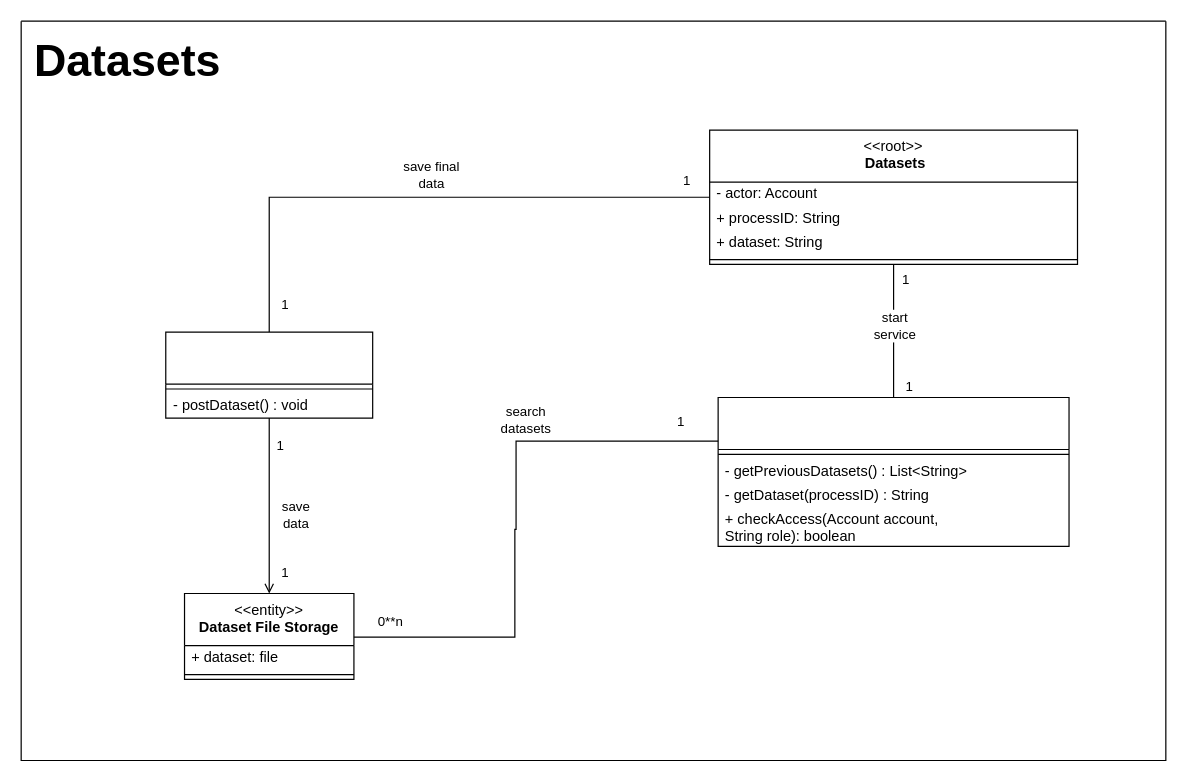
This 1187x782 diagram has some shape labels left out. Here are the shapes that lost their labels. From the top down, the box of each, then its label:
(165, 331, 373, 418): <<service>> Save Final Data
(717, 396, 1069, 546): <<service>> Search Datasets
